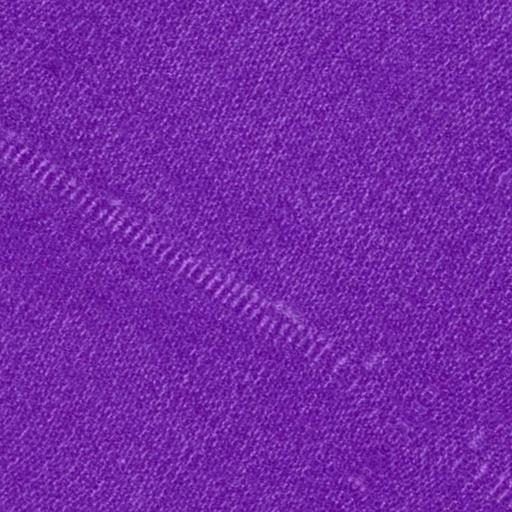slub: (1, 124, 340, 385)
